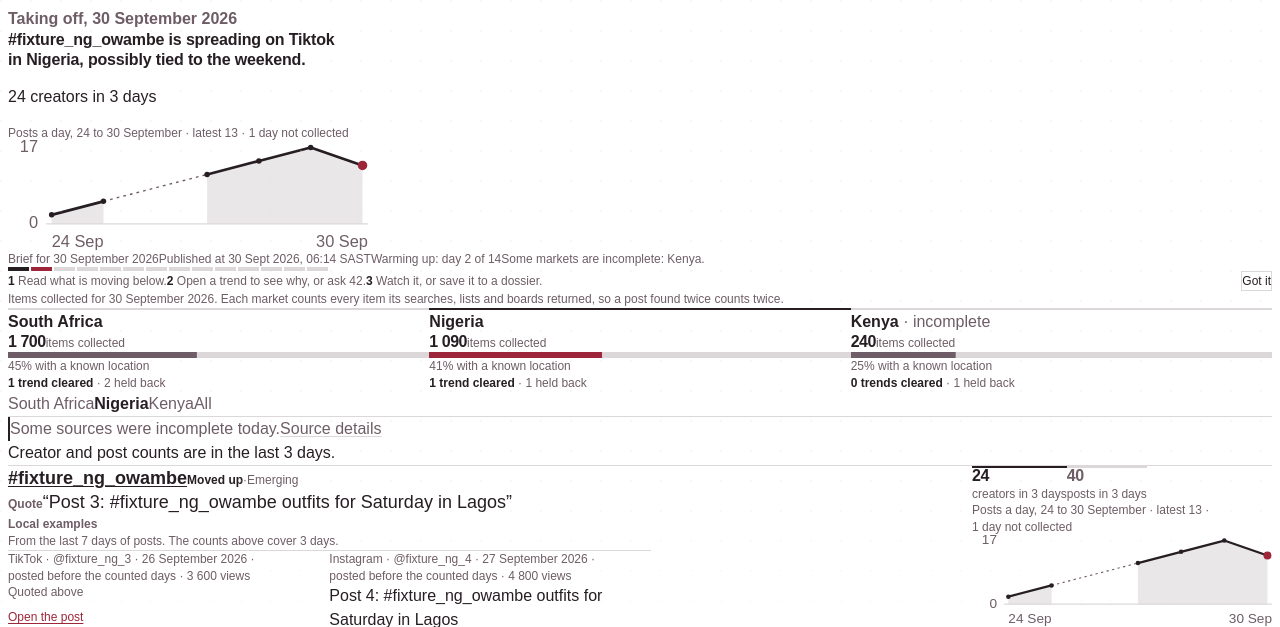
Test case: the market glance leads with items collected, labels its bar and opens its market
The image size is (1280, 627).
Expected: the text "Items collected for 30 September 2026. Each market counts every item its searches, lists and boards returned, so a post found twice counts twice." is shown, [8,292,784,306]
Expected: the text with class "t42-glance-value" reads "1 700", [8,333,46,350]
Click the button with class "t42-glance-market" that starts with "South Africa". click: (219, 350)
box: [8,308,429,392]
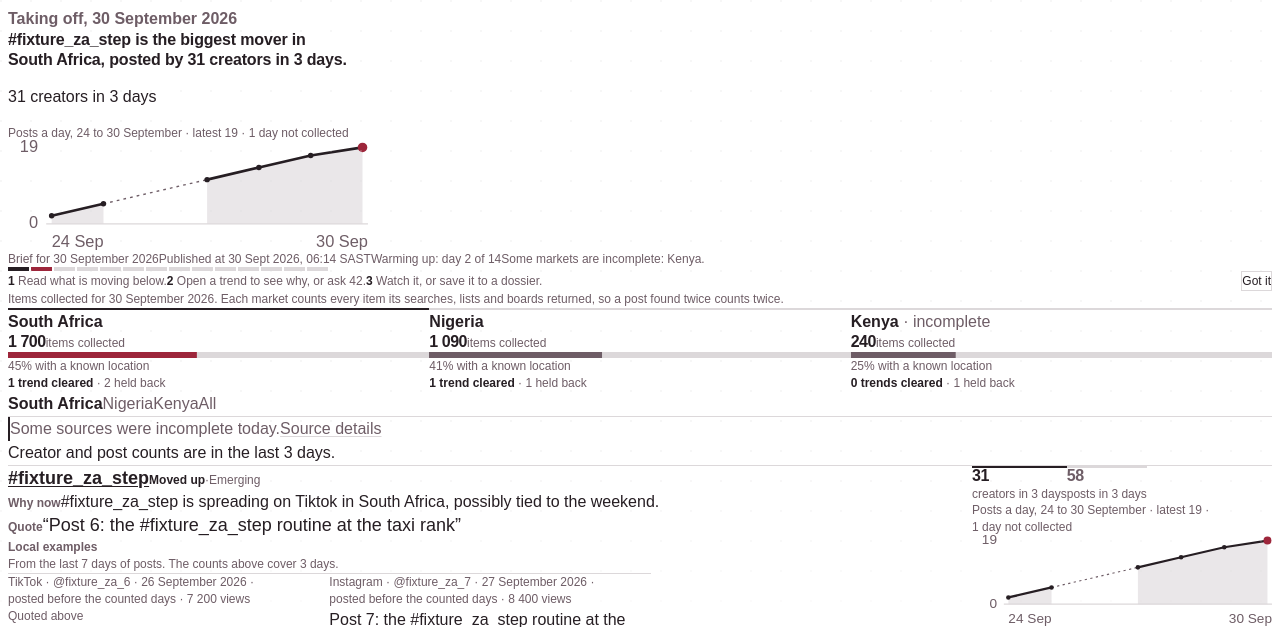
Expected: the heading "#fixture_za_step" is shown, [8,466,149,490]
